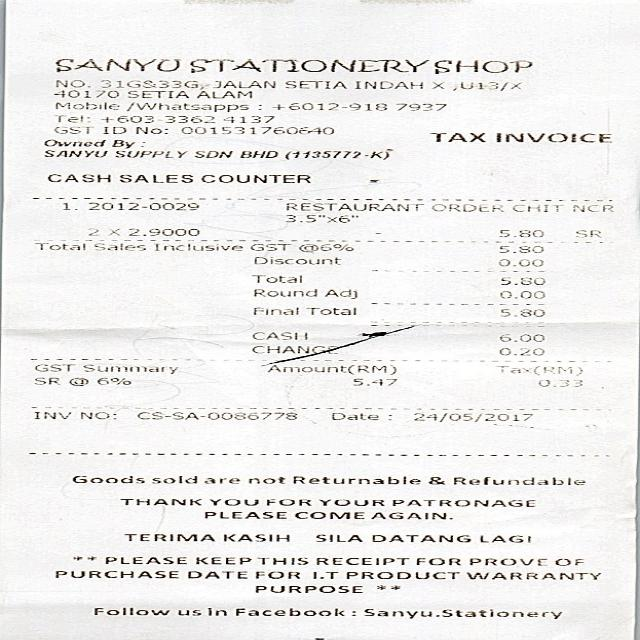text: (188, 58, 427, 72), (364, 608, 561, 618), (52, 58, 179, 72), (432, 59, 530, 73), (259, 364, 394, 374), (180, 126, 332, 134), (411, 412, 531, 422), (451, 476, 583, 485), (135, 412, 296, 419), (286, 202, 422, 210), (496, 133, 611, 142), (292, 476, 419, 484), (86, 201, 198, 210), (52, 570, 178, 578), (121, 534, 288, 540), (80, 364, 177, 374), (125, 102, 246, 110), (464, 572, 600, 579), (271, 102, 386, 110), (99, 80, 201, 89), (345, 571, 458, 579), (494, 365, 583, 375), (200, 174, 310, 182), (391, 500, 534, 506), (235, 608, 342, 616), (254, 584, 360, 592), (284, 151, 388, 159), (99, 115, 212, 122), (86, 228, 198, 235), (315, 557, 409, 565), (254, 256, 340, 264), (372, 534, 469, 541), (251, 346, 335, 354), (203, 510, 284, 518), (450, 81, 519, 90), (152, 243, 240, 250), (470, 557, 546, 565), (284, 214, 358, 222), (118, 174, 191, 182), (71, 475, 143, 483), (104, 556, 186, 563), (119, 498, 200, 505), (370, 511, 451, 518), (432, 203, 502, 211), (294, 510, 364, 518), (429, 132, 484, 142), (212, 79, 273, 88), (51, 90, 117, 98), (55, 101, 118, 109), (113, 150, 184, 157), (47, 174, 109, 182), (125, 90, 186, 98), (298, 243, 352, 252), (187, 570, 247, 578), (354, 81, 422, 88), (249, 274, 301, 283), (92, 608, 168, 614), (318, 499, 383, 506), (43, 149, 106, 156), (195, 90, 250, 98), (253, 289, 315, 296), (43, 139, 104, 146), (91, 242, 144, 250), (304, 307, 357, 315), (285, 81, 345, 88), (395, 102, 446, 110), (34, 242, 84, 250), (198, 556, 248, 564), (330, 412, 378, 420), (252, 332, 306, 339), (496, 229, 542, 237), (496, 258, 542, 266), (498, 347, 544, 355), (536, 378, 582, 386), (511, 204, 563, 211), (253, 306, 298, 314), (150, 475, 195, 483), (414, 557, 459, 565), (207, 498, 258, 505), (500, 308, 544, 316), (498, 333, 542, 341), (480, 535, 530, 542), (111, 138, 145, 148), (322, 288, 356, 298), (352, 377, 394, 385), (78, 411, 115, 420), (258, 557, 305, 564), (498, 277, 544, 284), (316, 534, 362, 541), (34, 363, 74, 371), (499, 291, 544, 298), (254, 571, 299, 578), (498, 245, 542, 252), (266, 498, 310, 505), (240, 150, 278, 158), (223, 116, 273, 122), (570, 204, 612, 211), (52, 126, 92, 133), (248, 243, 288, 250), (34, 411, 70, 418), (248, 476, 284, 483), (54, 115, 88, 122), (194, 151, 232, 157), (136, 126, 168, 133), (573, 229, 601, 237), (54, 80, 88, 86), (96, 378, 130, 384), (554, 558, 582, 565), (202, 478, 240, 483), (311, 571, 336, 578), (34, 377, 58, 384), (102, 126, 125, 133), (69, 377, 87, 385), (207, 607, 225, 615), (177, 609, 199, 615), (60, 202, 76, 210), (427, 476, 443, 484), (432, 82, 441, 88)
